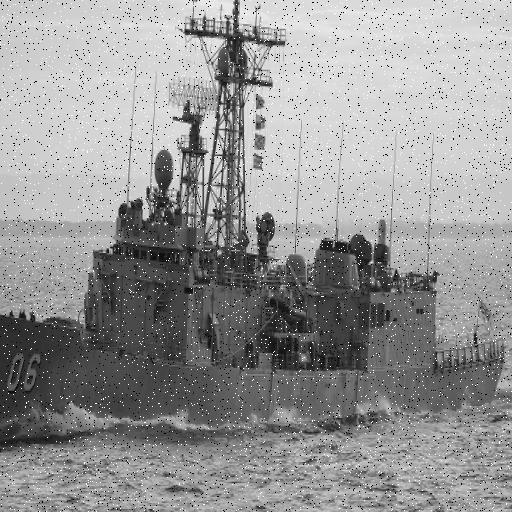Fragata: (1, 1, 508, 448)
